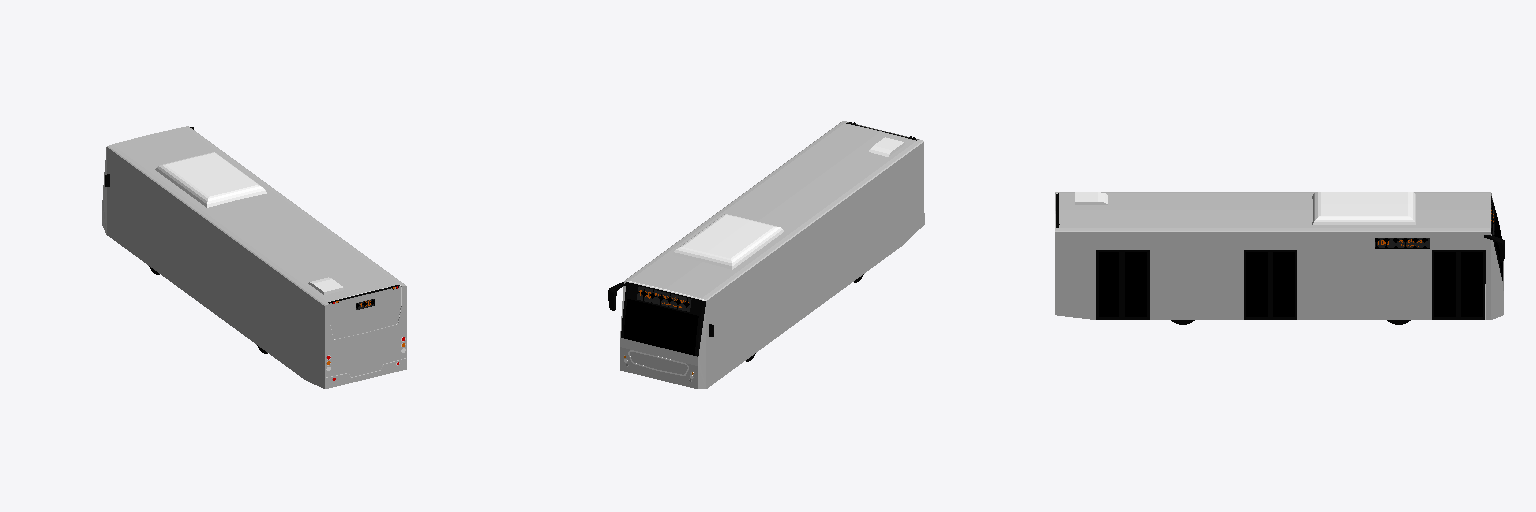
3 renders of one model, left to right at view 1: azimuth 30°, elevation 25°; view 2: azimuth 150°, elevation 25°; view 3: azimuth 270°, elevation 25°, orthographic.
Visible parts, largest first — view 1: Overlay, Chassis; view 2: Overlay, Chassis, Glass, RouteIndicators; view 3: Overlay, Doors.Glass, Chassis, Doors.
Boxes of the visible parts, x1,y1,x2,y2 form: Overlay: [102, 126, 406, 388]; Chassis: [155, 152, 401, 339]; Overlay: [620, 121, 924, 388]; Chassis: [621, 122, 916, 375]; Glass: [624, 299, 698, 355]; RouteIndicators: [637, 286, 691, 311]; Overlay: [1055, 192, 1503, 319]; Doors.Glass: [1099, 252, 1482, 316]; Chassis: [1055, 192, 1502, 319]; Doors: [1096, 250, 1484, 319].
Size of the model in its own units: 3.04 by 3.05 by 12.21.
7 materials, 5 textured.